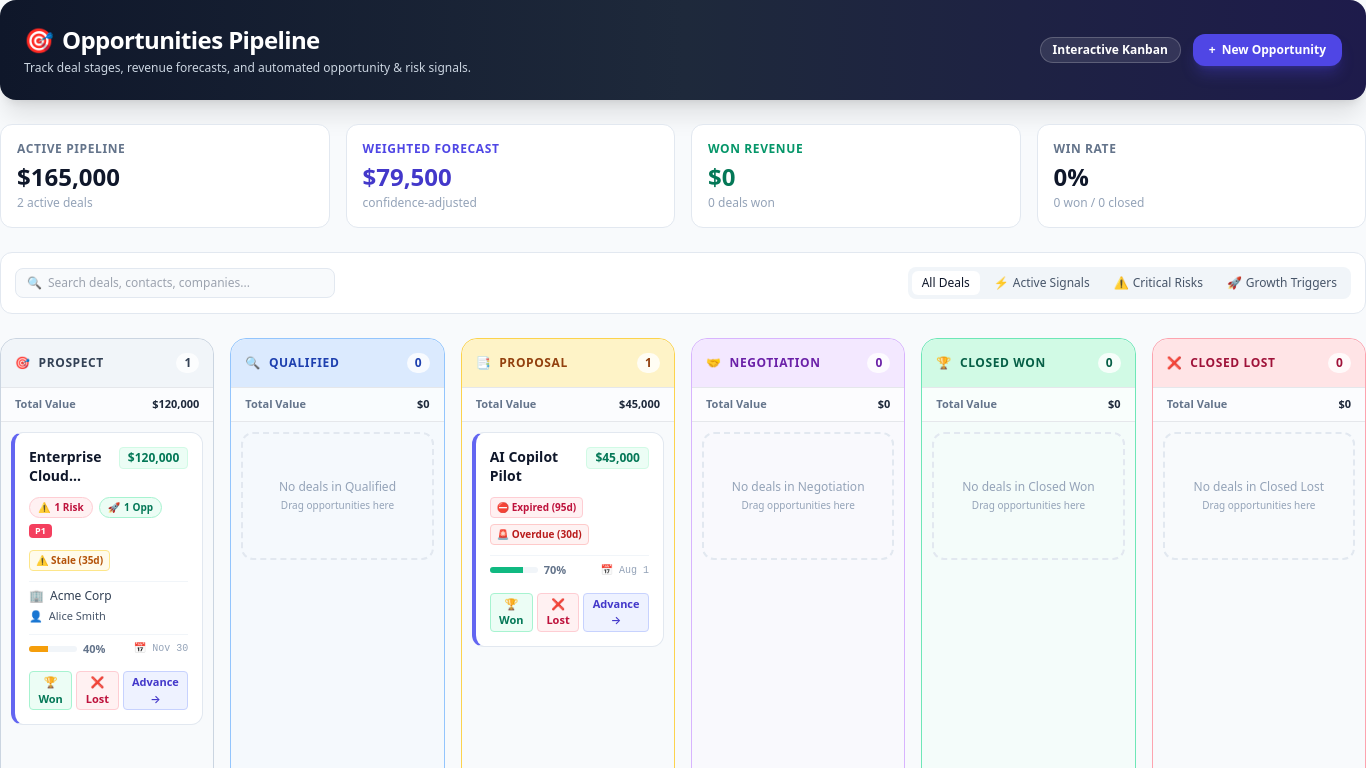
Scenario: OpportunitiesPage Kanban Board & Signal Integration › filters opportunities using search bar
Expected: the heading "Enterprise Cloud Migration" is shown, [29, 446, 111, 485]
Type "Copilot" into the field with placeholder "Search deals, contacts, companies..." at (175, 283), box [15, 268, 335, 298]
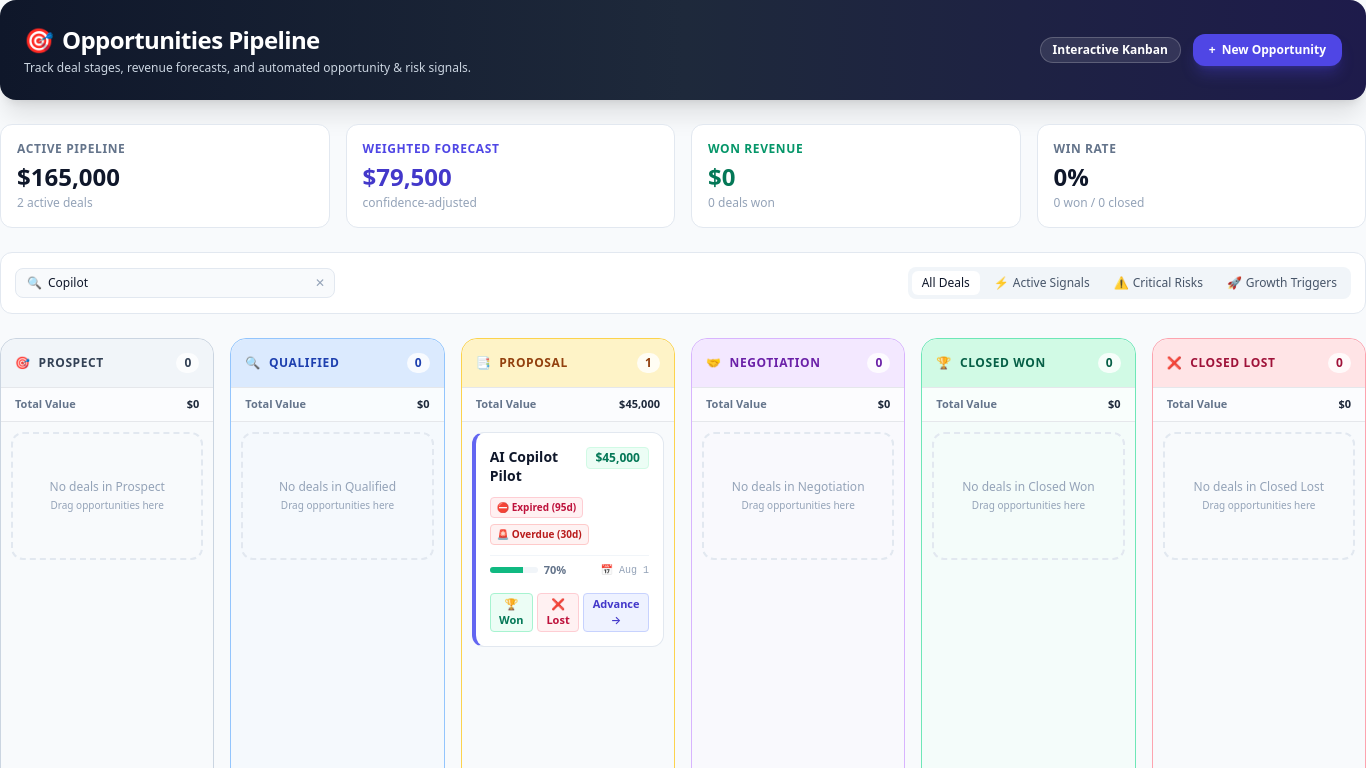
Expected: the heading "AI Copilot Pilot" is shown, [490, 446, 558, 485]
Expected: the heading "Enterprise Cloud Migration" is gone
